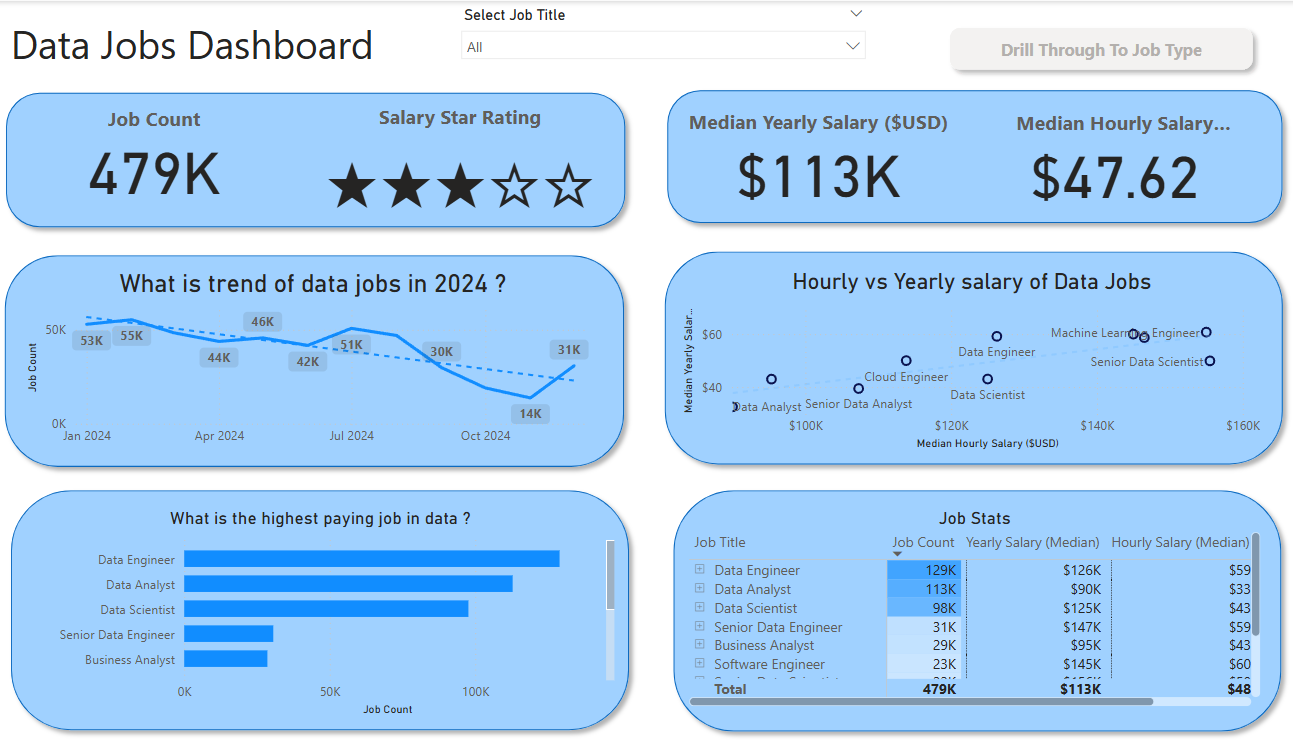

What the dashboard file says about the page in this screenshot:
{"tool":"powerbi","page":{"name":"Data Jobs Dashboard","canvas":[1280,720],"ordinal":0},"visuals":[{"type":"group","id":"g1","title":"Background","box":[16.7,76.8,1251.5,637.1],"z":0},{"type":"shape","box":[18.3,79.5,615.7,147.7],"z":0,"group":"g1"},{"type":"textbox","box":[26.1,11.2,373.6,64.5],"z":1000},{"type":"shape","box":[656.5,76.8,611.7,146],"z":1000,"group":"g1"},{"type":"slicer","fields":{"Values":["job_postings_flat.job_title_short"]},"box":[455.6,0,410.9,75.7],"z":2000},{"type":"shape","box":[16.7,236,615.7,222.2],"z":2000,"group":"g1"},{"type":"cardVisual","fields":{"Data":["Median(job_postings_flat.salary_year_avg)"]},"box":[665.2,86.8,293.5,121.5],"z":3000},{"type":"shape","box":[653.5,232.2,614.4,223.4],"z":3000,"group":"g1"},{"type":"cardVisual","fields":{"Data":["Median(job_postings_flat.salary_hour_avg)"]},"box":[957.3,88.2,282,121.5],"z":4000},{"type":"shape","box":[22.9,463.1,614.4,249.5],"z":4000,"group":"g1"},{"type":"cardVisual","fields":{"Data":["job_postings_flat.Salary Star Rating"]},"box":[312.8,81.9,306.6,132.8],"z":5000},{"type":"shape","box":[662.2,463.1,604.5,250.7],"z":5000,"group":"g1"},{"type":"cardVisual","fields":{"Data":["CountNonNull(job_postings_flat.job_title_short)"]},"box":[26.1,81.9,288,134.1],"z":6000},{"type":"lineChart","title":"What is trend of data jobs in 2024 ?","fields":{"Category":["job_postings_flat.job_posted_date.Variation.Date Hierarchy.Year","job_postings_flat.job_posted_date.Variation.Date Hierarchy.Quarter","job_postings_flat.job_posted_date.Variation.Date Hierarchy.Month","job_postings_flat.job_posted_date.Variation.Date Hierarchy.Day"],"Y":["CountNonNull(job_postings_flat.job_title_short)"]},"box":[42.2,258.2,562.3,180],"z":7000},{"type":"barChart","title":"What is the highest paying job in data ?","fields":{"Category":["job_postings_flat.job_title_short"],"Y":["CountNonNull(job_postings_flat.job_title_short)"]},"box":[42.2,489.1,577.2,206.1],"z":8000},{"type":"scatterChart","title":"Hourly vs Yearly salary of Data Jobs","fields":{"X":["Median(job_postings_flat.salary_year_avg)"],"Y":["Median(job_postings_flat.salary_hour_avg)"],"Series":["job_postings_flat.job_title_short"]},"box":[675.3,258.2,567.3,180],"z":9000},{"type":"pivotTable","title":"Job Stats","fields":{"Rows":["job_postings_flat.job_title_short","job_postings_flat.job_posted_date.Variation.Date Hierarchy.Quarter"],"Values":["CountNonNull(job_postings_flat.job_title_short)","Median(job_postings_flat.salary_year_avg)","Median(job_postings_flat.salary_hour_avg)","SparklineData(CountNonNull(job_postings_flat.job_title_short)_[job_postings_flat.job_posted_date.Variation.Date Hierarch"]},"box":[681.5,489.1,561.1,197.4],"z":10000},{"type":"actionButton","box":[928.5,17.4,310.3,58.3],"z":11000}]}

Visuals, with their boxes in screenshot pixels (x1, y1, x2, y2), scaled from the page's 1280x720 canvas onto the 1293x740 screenshot:
"Background" group: bbox=[17, 79, 1281, 734]
shape: bbox=[18, 82, 640, 234]
textbox: bbox=[26, 12, 404, 78]
shape: bbox=[663, 79, 1281, 229]
slicer - job_postings_flat.job_title_short: bbox=[460, 0, 875, 78]
shape: bbox=[17, 243, 639, 471]
cardVisual - Median(job_postings_flat.salary_year_avg): bbox=[672, 89, 968, 214]
shape: bbox=[660, 239, 1281, 468]
cardVisual - Median(job_postings_flat.salary_hour_avg): bbox=[967, 91, 1252, 216]
shape: bbox=[23, 476, 644, 732]
cardVisual - job_postings_flat.Salary Star Rating: bbox=[316, 84, 626, 221]
shape: bbox=[669, 476, 1280, 734]
cardVisual - CountNonNull(job_postings_flat.job_title_short): bbox=[26, 84, 317, 222]
"What is trend of data jobs in 2024 ?" lineChart: bbox=[43, 265, 611, 450]
"What is the highest paying job in data ?" barChart: bbox=[43, 503, 626, 715]
"Hourly vs Yearly salary of Data Jobs" scatterChart: bbox=[682, 265, 1255, 450]
"Job Stats" pivotTable: bbox=[688, 503, 1255, 706]
actionButton: bbox=[938, 18, 1251, 78]
